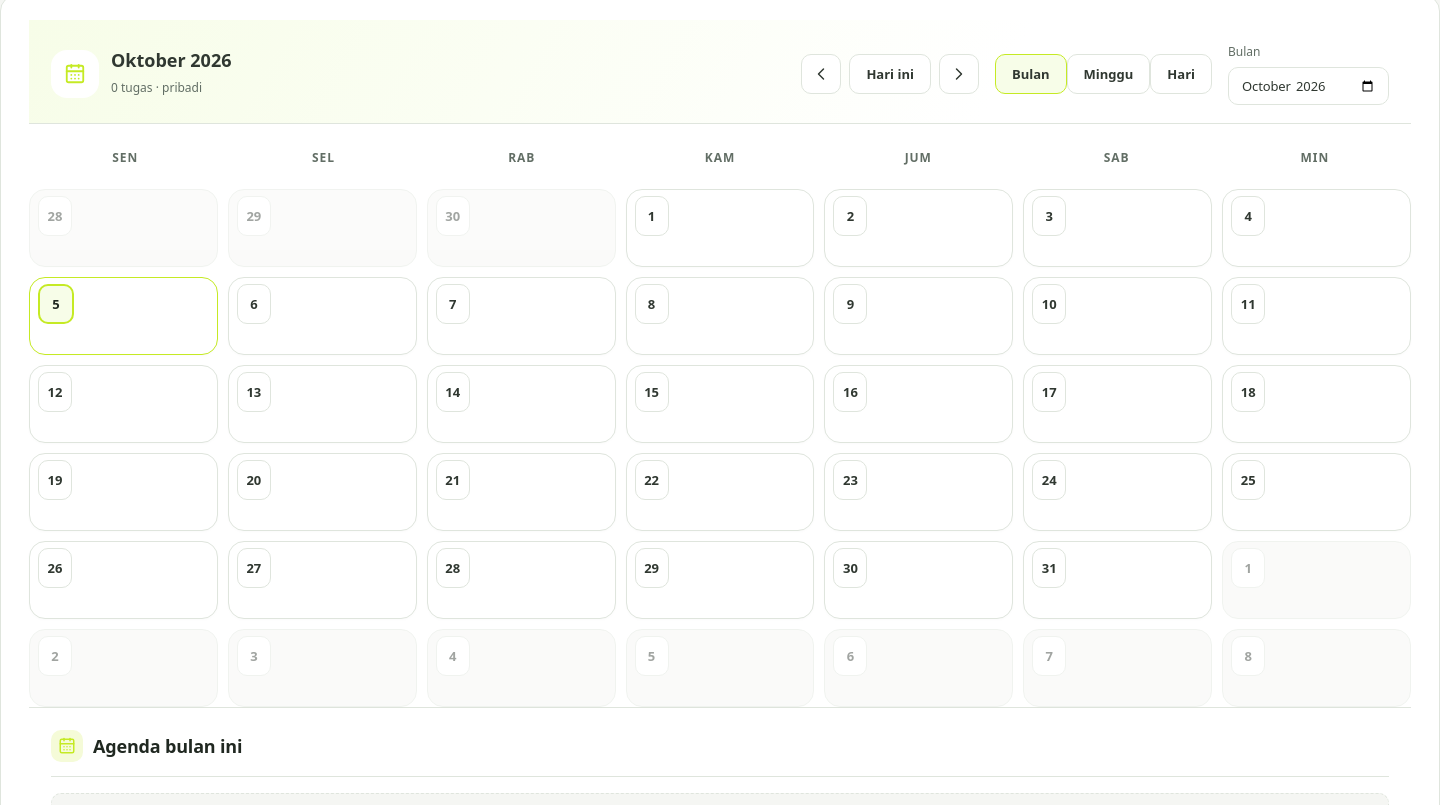
Scenario: menjelaskan bulan kosong
This screenshot has width=1440, height=805.
What coordinates should you click on to do the following:
click the button "Hari ini"
I would click on:
 (890, 74)
Its box is [849,54,931,94].
(page scrolled)
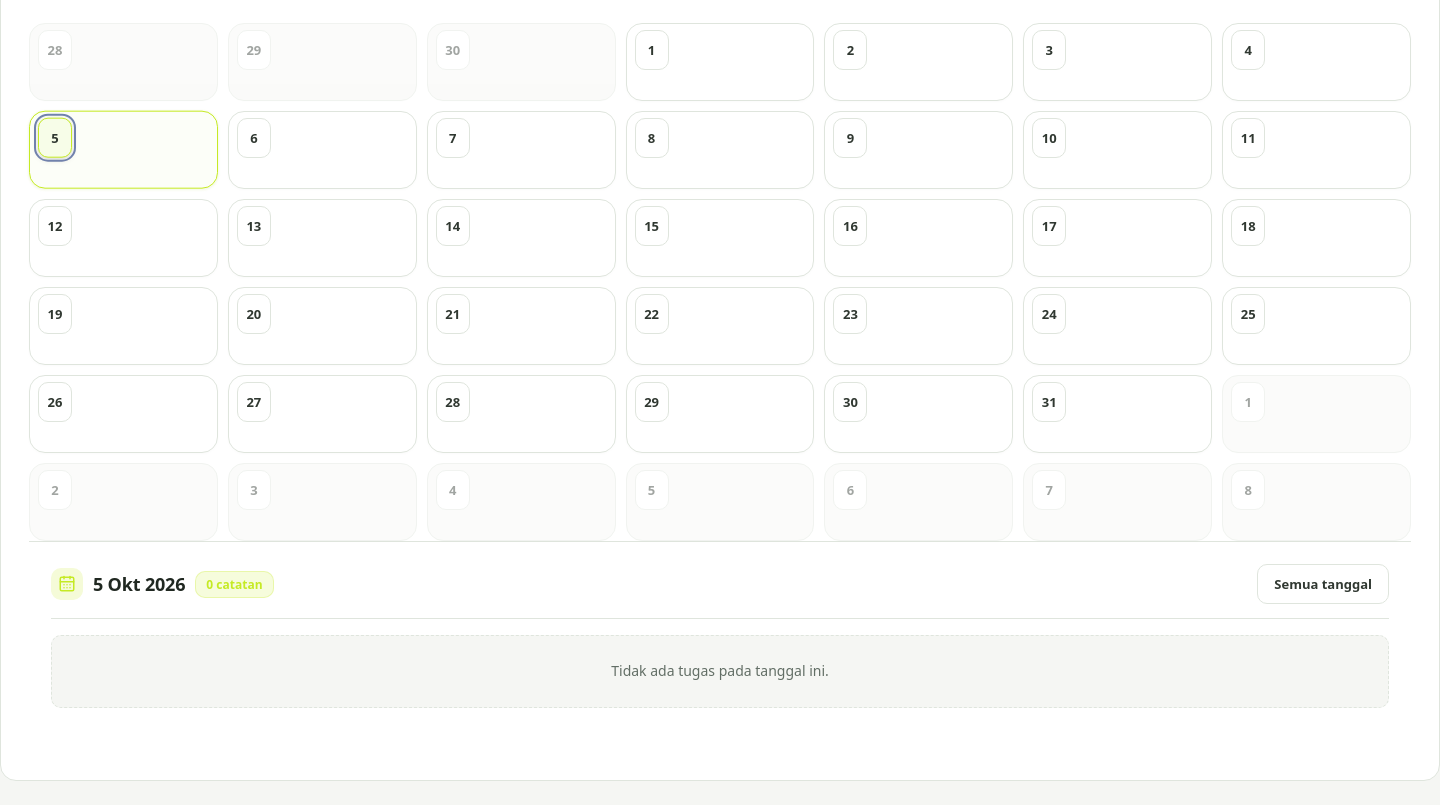
Expected: the text "Tidak ada tugas pada tanggal ini." is shown, [51,635,1389,708]
